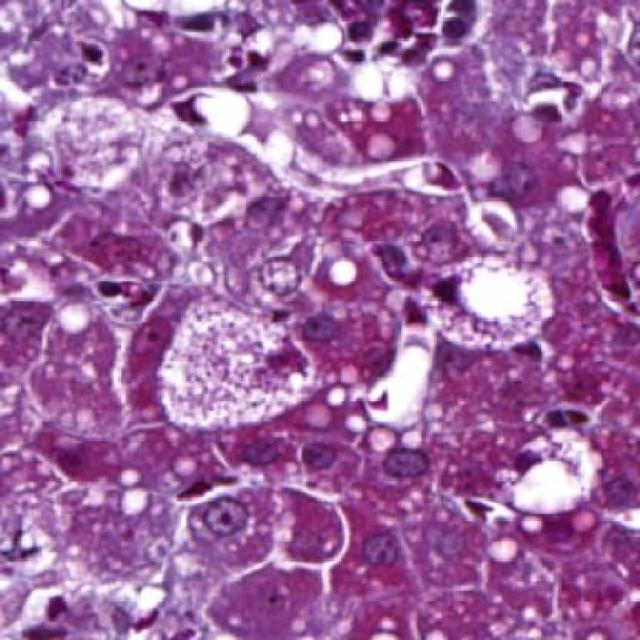ballooning: (160, 298, 320, 438), (409, 254, 558, 357), (511, 424, 607, 518)
